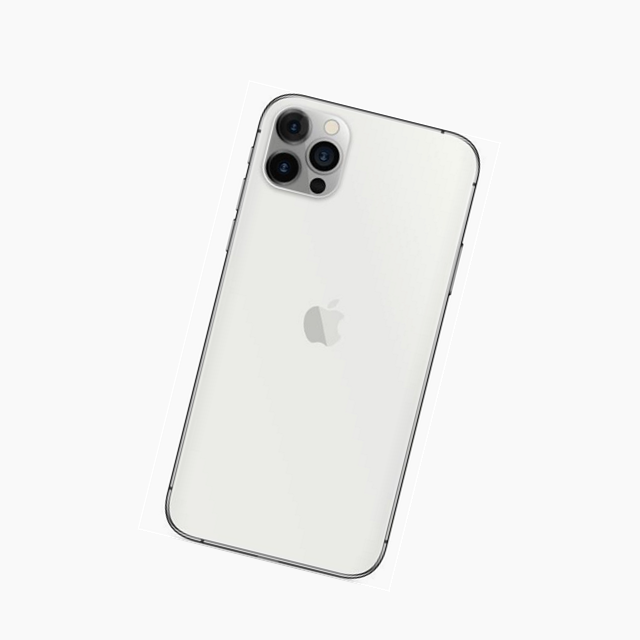iphone_12pro_silver: (189, 69, 482, 585), (260, 95, 357, 204)
